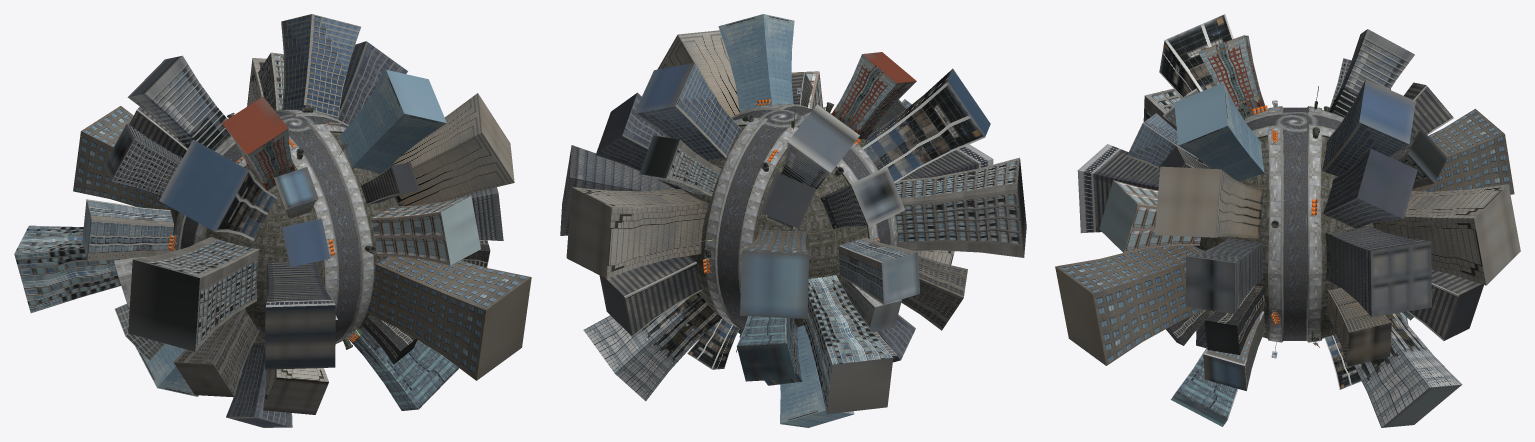
Rendered from ENV003_City.fbx.
3 views of the same model, side by side, from view 1: azimuth 30°, elevation 25°; view 2: azimuth 150°, elevation 25°; view 3: azimuth 270°, elevation 25° (orthographic). The views are drawn at different scales.
Parts seen in each view (by area): view 1: ENV003_City; view 2: ENV003_City; view 3: ENV003_City.
Part boxes in pixels (left/top/right/bottom): ENV003_City: left=14, top=14, right=531, bottom=427; ENV003_City: left=560, top=14, right=1026, bottom=427; ENV003_City: left=1055, top=14, right=1520, bottom=427.
Size of the model in its own units: 6448 by 6676 by 5462.
1 material, 1 textured.
